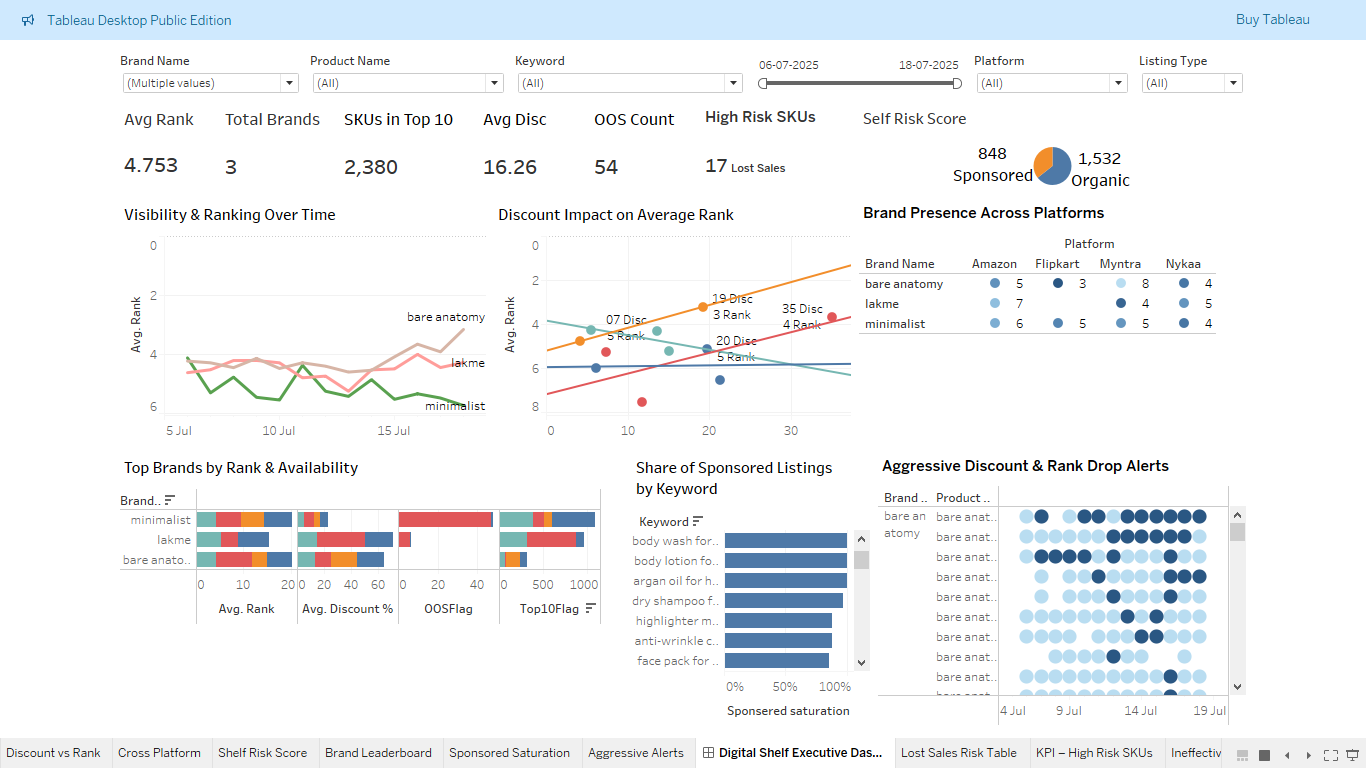

The page's visual inventory and layout, read from the dashboard file:
{"tool":"tableau","page":{"name":"Digital Shelf Executive Dashboard","canvas":[1000,1000],"units":"permille","ordinal":0},"visuals":[{"type":"filter","title":"Visibility & Ranking","param":"[federated.0k0028c1y020bw14otmxn14tl1lj].[none:brand_name:nk]","box":[7,12.1,165,74.1]},{"type":"filter","title":"Aggressive Alerts","param":"[federated.0k0028c1y020bw14otmxn14tl1lj].[none:product_name:nk]","box":[172,12.1,178.2,74.1]},{"type":"filter","title":"Visibility & Ranking","param":"[federated.0k0028c1y020bw14otmxn14tl1lj].[none:keyword:nk]","box":[350.2,12.1,208,74.1]},{"type":"filter","title":"Aggressive Alerts","param":"[federated.0k0028c1y020bw14otmxn14tl1lj].[none:date:qk]","box":[558.3,12.1,191.5,74.1]},{"type":"filter","title":"Visibility & Ranking","param":"[federated.0k0028c1y020bw14otmxn14tl1lj].[none:platform:nk]","box":[749.7,12.1,143.1,74.1]},{"type":"filter","title":"Aggressive Alerts","param":"[federated.0k0028c1y020bw14otmxn14tl1lj].[none:listing_type:nk]","box":[892.8,12.1,100.2,74.1]},{"type":"worksheet","title":"KPI - Avg Rank","mark":"Automatic","box":[7,86.2,88.7,137.9]},{"type":"worksheet","title":"KPI - Total Brands","mark":"Automatic","box":[95.7,86.2,104.5,137.9]},{"type":"worksheet","title":"KPI - SKUs in Top 10","mark":"Automatic","box":[200.2,86.2,116.8,137.9]},{"type":"worksheet","title":"KPI - Avg Discount","mark":"Automatic","box":[319.5,86.2,96.1,137.9]},{"type":"worksheet","title":"KPI - OOS Count","mark":"Automatic","box":[415.6,86.2,96.1,137.9]},{"type":"worksheet","title":"KPI – High Risk SKUs","mark":"Automatic","box":[511.7,86.2,137.9,137.9]},{"type":"worksheet","title":"Shelf Risk Score","mark":"Pie","box":[649.6,86.2,343.4,137.9]},{"type":"worksheet","title":"Visibility & Ranking","mark":"Automatic","rows":["rank"],"cols":["date"],"box":[7,224.1,325.6,362.1]},{"type":"worksheet","title":"Discount vs Rank","mark":"Automatic","rows":["rank"],"cols":["Calculation_905786507841253380"],"box":[332.6,224.1,317,362.1]},{"type":"worksheet","title":"Cross Platform","mark":"Circle","rows":["brand_name"],"cols":["platform"],"box":[649.6,224.1,343.4,362.1]},{"type":"worksheet","title":"Brand Leaderboard","mark":"Automatic","rows":["brand_name"],"cols":["rank","Calculation_905786507841253380","Calculation_905786507837890561","Calculation_905786507837788160"],"box":[7,586.2,445,401.7]},{"type":"worksheet","title":"Sponsored Saturation","mark":"Automatic","rows":["keyword"],"cols":["Calculation_905786507849695241"],"box":[452.1,586.2,214.3,401.7]},{"type":"worksheet","title":"Aggressive Alerts","mark":"Circle","rows":["brand_name","product_name"],"cols":["date"],"box":[666.3,586.2,326.7,401.7]}]}

Visuals, with their boxes on the dashboard's canvas, which has no fixed pixel size, in thousandths of its width and height (x1, y1, x2, y2). These are canvas units, not pixel positions in the 1366x768 screenshot, which may show the page scaled, cropped or inside an application window:
"Visibility & Ranking" filter: 7 12 172 86
"Aggressive Alerts" filter: 172 12 350 86
"Visibility & Ranking" filter: 350 12 558 86
"Aggressive Alerts" filter: 558 12 750 86
"Visibility & Ranking" filter: 750 12 893 86
"Aggressive Alerts" filter: 893 12 993 86
"KPI - Avg Rank" worksheet: 7 86 96 224
"KPI - Total Brands" worksheet: 96 86 200 224
"KPI - SKUs in Top 10" worksheet: 200 86 317 224
"KPI - Avg Discount" worksheet: 320 86 416 224
"KPI - OOS Count" worksheet: 416 86 512 224
"KPI – High Risk SKUs" worksheet: 512 86 650 224
"Shelf Risk Score" worksheet (Pie marks): 650 86 993 224
"Visibility & Ranking" worksheet: 7 224 333 586
"Discount vs Rank" worksheet: 333 224 650 586
"Cross Platform" worksheet (Circle marks): 650 224 993 586
"Brand Leaderboard" worksheet: 7 586 452 988
"Sponsored Saturation" worksheet: 452 586 666 988
"Aggressive Alerts" worksheet (Circle marks): 666 586 993 988
